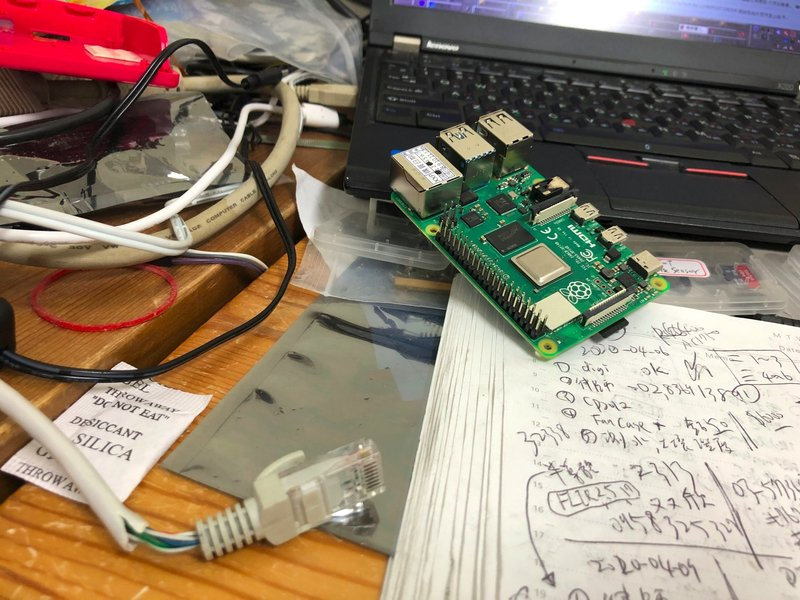pi: (374, 105, 676, 366)
